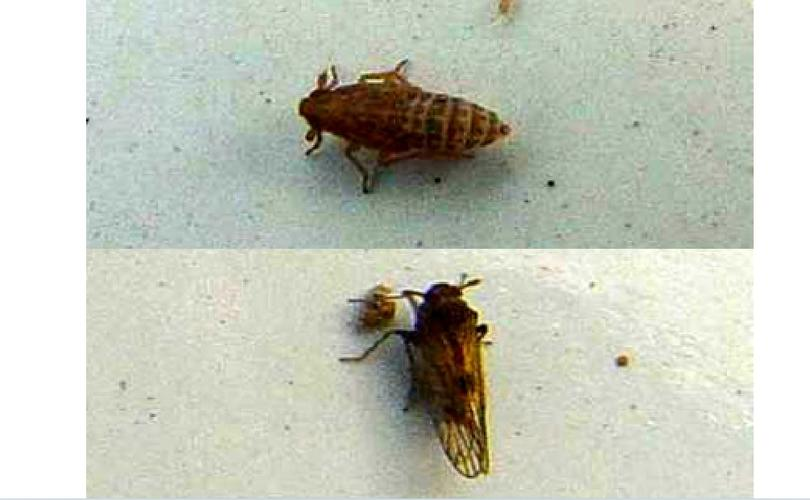Delphacidae: (337, 273, 495, 480), (297, 56, 511, 195)
